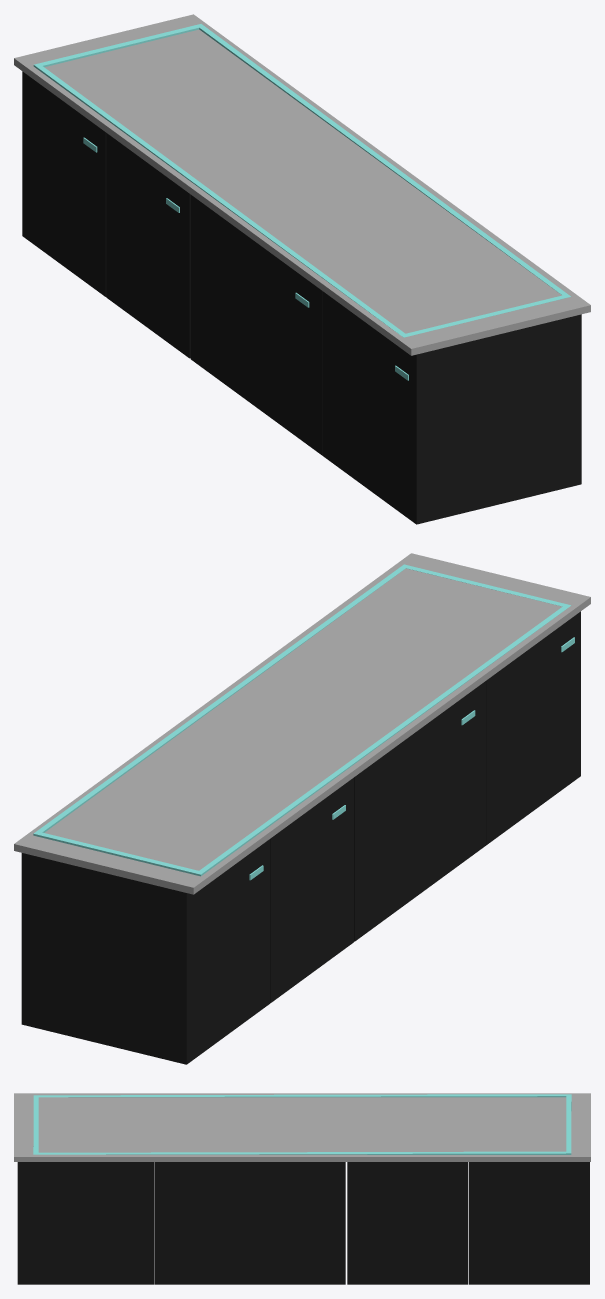
The model's file is meble.fbx.
3 views of the same model, one above another, from view 1: azimuth 30°, elevation 25°; view 2: azimuth 150°, elevation 25°; view 3: azimuth 270°, elevation 25° (orthographic). The views are drawn at different scales.
Visible parts, largest first — view 1: pCube13, pCube9, pCube8, pCube5, pCube7, fluo_blue; view 2: pCube13, pCube5, pCube8, pCube9, pCube7, fluo_blue; view 3: pCube13, pCube8, pCube9, pCube7, pCube5, fluo_blue.
Part boxes in pixels (x1,y1,x2,y2): pCube13: (14, 14, 590, 355); pCube9: (322, 291, 581, 524); pCube8: (190, 195, 322, 455); pCube5: (22, 71, 106, 296); pCube7: (106, 133, 190, 358); fluo_blue: (33, 24, 570, 337); pCube13: (14, 553, 590, 894); pCube5: (21, 839, 269, 1064); pCube8: (354, 680, 486, 941); pCube9: (486, 611, 580, 844); pCube7: (270, 777, 353, 1003); fluo_blue: (33, 564, 571, 876); pCube13: (14, 1093, 590, 1161); pCube8: (154, 1162, 345, 1284); pCube9: (17, 1162, 153, 1284); pCube7: (347, 1162, 468, 1284); pCube5: (469, 1162, 589, 1284); fluo_blue: (33, 1094, 571, 1154).
Size of the model in its own units: 1.09 by 1.05 by 4.17.
